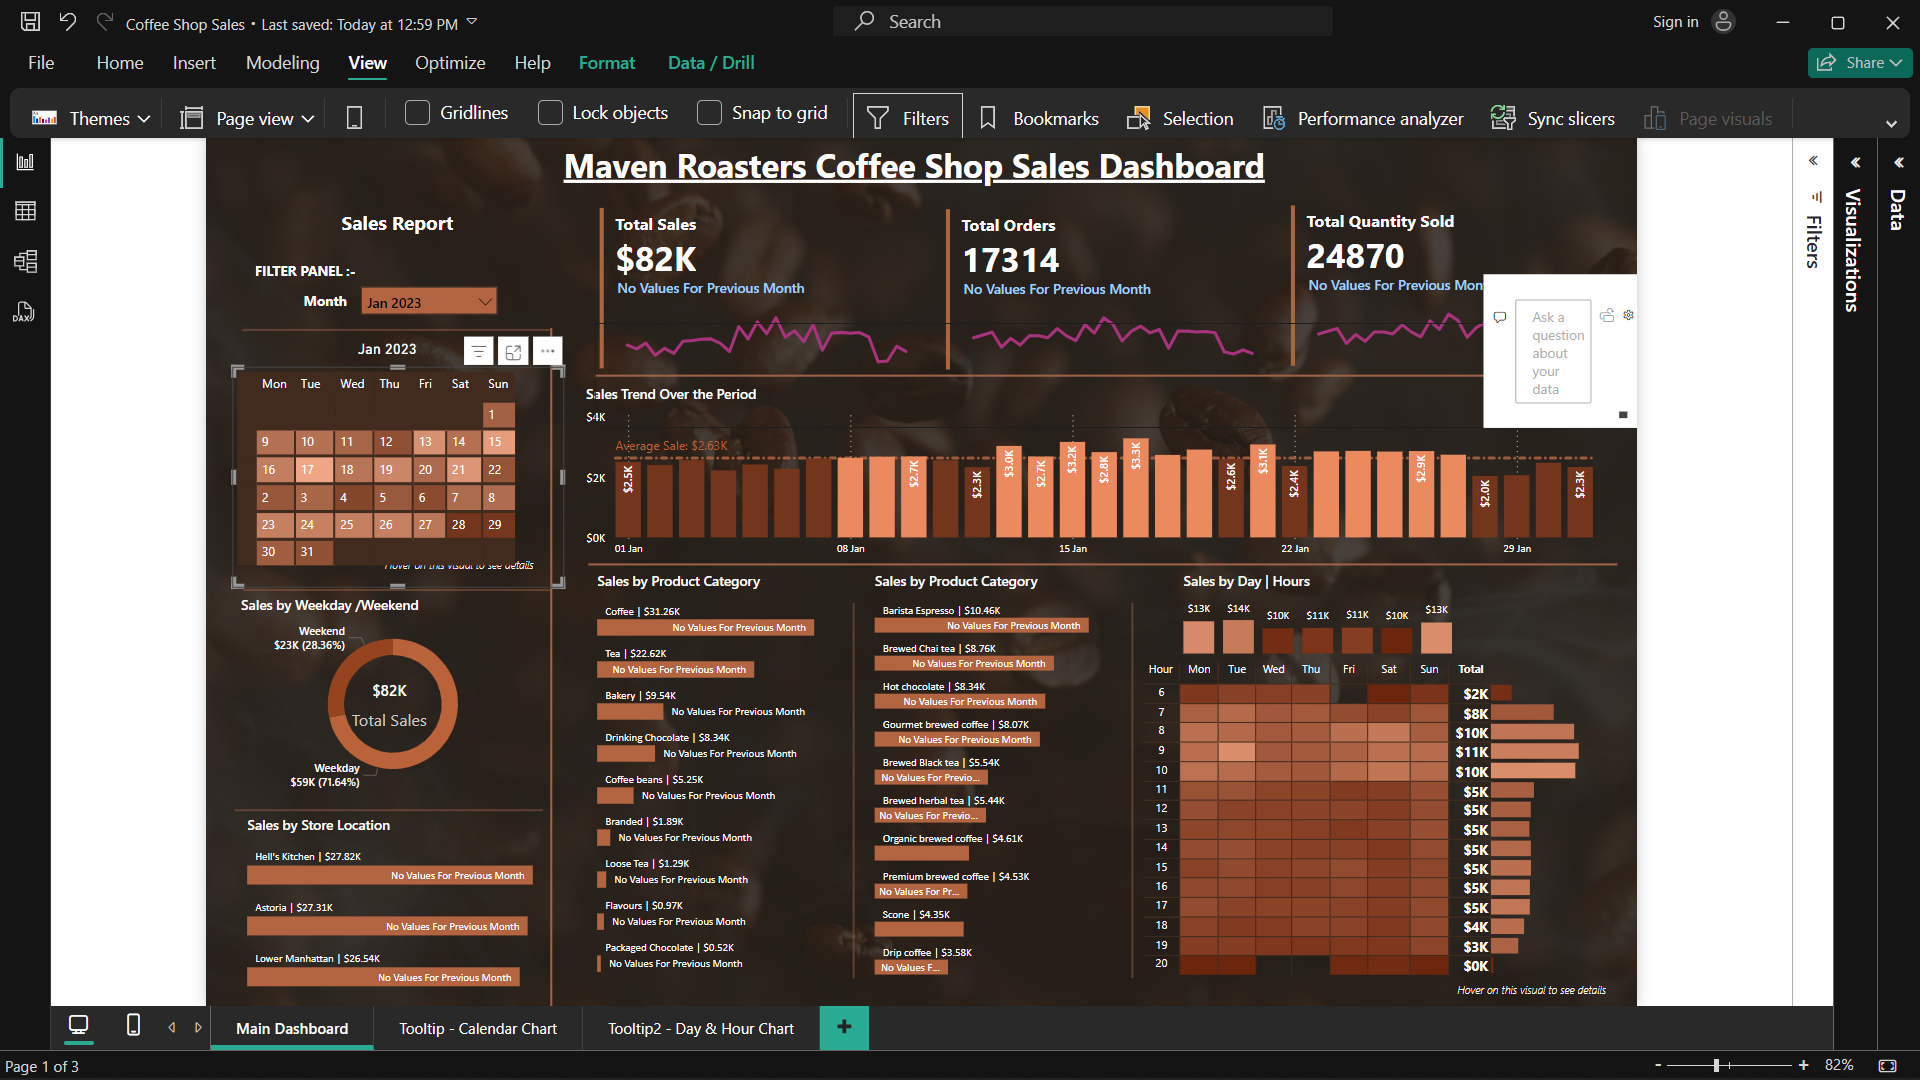

Layout of this report page (visuals, bound fields, positions):
{"tool":"powerbi","page":{"name":"Main Dashboard","canvas":[1400,850],"ordinal":0},"visuals":[{"type":"textbox","box":[345.5,0,705.7,61.6],"z":0},{"type":"slicer","fields":{"Values":["Date Table.Month Year"]},"box":[146.2,141.2,143.8,36.2],"z":1000},{"type":"group","id":"g1","title":"Group 1","box":[380.7,63.1,319.4,168],"z":2000},{"type":"group","id":"g2","title":"Group 1","box":[719,64.4,318.7,168],"z":3000},{"type":"group","id":"g3","title":"Group 1","box":[1056.6,61.5,318.2,166.6],"z":4000},{"type":"cardVisual","fields":{"Data":["Transactions.Total Quantity Sold"]},"box":[1056.6,61.5,318.7,168],"z":4000,"group":"g3"},{"type":"cardVisual","fields":{"Data":["Transactions.Total Sales"]},"box":[380.7,63.1,318.7,168],"z":4000,"group":"g1"},{"type":"cardVisual","fields":{"Data":["Transactions.Total Orders"]},"box":[719,64.4,318.7,168],"z":4000,"group":"g2"},{"type":"pivotTable","fields":{"Rows":["Date Table.Week Number"],"Columns":["Date Table.Day Name"],"Values":["Min(Date Table.Day Number)"]},"box":[25.6,224.4,324.4,215.6],"z":5000},{"type":"lineChart","fields":{"Category":["Date Table.Date.Variation.Date Hierarchy.Year","Date Table.Date.Variation.Date Hierarchy.Quarter","Date Table.Date.Variation.Date Hierarchy.Month","Date Table.Date.Variation.Date Hierarchy.Day"],"Y":["Transactions.Total Orders"]},"box":[1073.4,135,302.7,89.5],"z":6000,"group":"g3"},{"type":"lineChart","fields":{"Category":["Date Table.Date.Variation.Date Hierarchy.Year","Date Table.Date.Variation.Date Hierarchy.Quarter","Date Table.Date.Variation.Date Hierarchy.Month","Date Table.Date.Variation.Date Hierarchy.Day"],"Y":["Transactions.Total Sales"]},"box":[397.5,136.6,302.7,89.5],"z":6000,"group":"g1"},{"type":"lineChart","fields":{"Category":["Date Table.Date.Variation.Date Hierarchy.Year","Date Table.Date.Variation.Date Hierarchy.Quarter","Date Table.Date.Variation.Date Hierarchy.Month","Date Table.Date.Variation.Date Hierarchy.Day"],"Y":["Transactions.Total Orders"]},"box":[735.8,137.9,302.7,89.5],"z":6000,"group":"g2"},{"type":"card","fields":{"Values":["Min(Date Table.Month Year)"]},"box":[132.6,186.1,91.1,42.8],"z":6000},{"type":"card","fields":{"Values":["Transactions.Foot Note"]},"box":[146,401.7,204.9,38.8],"z":7000},{"type":"shape","box":[627.5,455,12.5,367.5],"z":8000},{"type":"shape","box":[35.6,182.2,301.1,11.1],"z":9000},{"type":"donutChart","title":"Sales by Weekday /Weekend","fields":{"Category":["Date Table.Weekday /Weekend"],"Y":["Transactions.Total Sales"]},"box":[28.8,447.5,307.5,195],"z":10000},{"type":"card","fields":{"Values":["Transactions.Total Sales"]},"box":[113.3,525,131.7,58.3],"z":11000},{"type":"shape","box":[28.3,651.7,301.7,11.7],"z":12000},{"type":"clusteredBarChart","title":"Sales by Store Location","fields":{"Category":["Transactions.store_location"],"Y":["Transactions.Place Holder","Transactions.Total Sales"]},"box":[35,662.5,313.8,175],"z":13000},{"type":"columnChart","title":"Sales Trend Over the Period","fields":{"Category":["Transactions.transaction_date"],"Y":["Transactions.Total Sales"]},"box":[366.9,241,997.6,178.1],"z":14000},{"type":"clusteredBarChart","title":"Sales by Product Category","fields":{"Y":["Transactions.Place Holder","Transactions.Total Sales"],"Category":["Transactions.product_category"]},"box":[377.5,425,250,397.5],"z":15000},{"type":"shape","box":[36.2,436.2,301.2,11.2],"z":16000},{"type":"clusteredBarChart","title":"Sales by Product Category","fields":{"Y":["Transactions.Place Holder","Transactions.Total Sales"],"Category":["Transactions.product_type"]},"box":[650,425,250,400],"z":17000},{"type":"shape","box":[900,455,12.5,367.5],"z":18000},{"type":"pivotTable","fields":{"Rows":["Transactions.Hour"],"Values":["Transactions.Total Sales"],"Columns":["Date Table.Day Name"]},"box":[912.5,507.5,362.5,317.5],"z":19000},{"type":"barChart","fields":{"Category":["Transactions.Hour"],"Y":["Transactions.Total Sales"]},"box":[1252.5,522.5,132.5,300],"z":20000},{"type":"columnChart","title":"Sales by Day | Hours","fields":{"Y":["Transactions.Total Sales"],"Category":["Date Table.Day Name"]},"box":[951.2,425,273.8,86.2],"z":21000},{"type":"textbox","box":[90,145,66.2,28.8],"z":22000},{"type":"textbox","box":[121.2,65,132.5,37.5],"z":23000},{"type":"textbox","box":[42.5,116.2,157.5,28.8],"z":24000},{"type":"shape","box":[380.3,180.8,994.9,103.1],"z":25000},{"type":"shape","box":[374.9,365.6,1006.9,103.1],"z":26000},{"type":"shape","box":[328.1,186.1,20.1,664.1],"z":26001},{"type":"card","fields":{"Values":["Transactions.Foot Note"]},"box":[1195.7,822.2,204.9,28.1],"z":26002}]}

Visuals, with their boxes on the page's 1400x850 design canvas (x1, y1, x2, y2). These are canvas units, not pixel positions in the 1920x1080 screenshot, which may show the page scaled, cropped or inside an application window:
textbox: bbox(346, 0, 1051, 62)
slicer - Date Table.Month Year: bbox(146, 141, 290, 177)
"Group 1" group: bbox(381, 63, 700, 231)
"Group 1" group: bbox(719, 64, 1038, 232)
"Group 1" group: bbox(1057, 62, 1375, 228)
cardVisual - Transactions.Total Quantity Sold: bbox(1057, 62, 1375, 230)
cardVisual - Transactions.Total Sales: bbox(381, 63, 699, 231)
cardVisual - Transactions.Total Orders: bbox(719, 64, 1038, 232)
pivotTable - Date Table.Week Number x Date Table.Day Name: bbox(26, 224, 350, 440)
lineChart - Date Table.Date.Variation.Date Hierarchy.Year x Date Table.Date.Variation.Date Hierarchy.Quarter: bbox(1073, 135, 1376, 224)
lineChart - Date Table.Date.Variation.Date Hierarchy.Year x Date Table.Date.Variation.Date Hierarchy.Quarter: bbox(398, 137, 700, 226)
lineChart - Date Table.Date.Variation.Date Hierarchy.Year x Date Table.Date.Variation.Date Hierarchy.Quarter: bbox(736, 138, 1038, 227)
card - Min(Date Table.Month Year): bbox(133, 186, 224, 229)
card - Transactions.Foot Note: bbox(146, 402, 351, 440)
shape: bbox(628, 455, 640, 822)
shape: bbox(36, 182, 337, 193)
"Sales by Weekday /Weekend" donutChart: bbox(29, 448, 336, 642)
card - Transactions.Total Sales: bbox(113, 525, 245, 583)
shape: bbox(28, 652, 330, 663)
"Sales by Store Location" clusteredBarChart: bbox(35, 662, 349, 838)
"Sales Trend Over the Period" columnChart: bbox(367, 241, 1364, 419)
"Sales by Product Category" clusteredBarChart: bbox(378, 425, 628, 822)
shape: bbox(36, 436, 337, 447)
"Sales by Product Category" clusteredBarChart: bbox(650, 425, 900, 825)
shape: bbox(900, 455, 912, 822)
pivotTable - Transactions.Hour x Transactions.Total Sales: bbox(912, 508, 1275, 825)
barChart - Transactions.Hour x Transactions.Total Sales: bbox(1252, 522, 1385, 822)
"Sales by Day | Hours" columnChart: bbox(951, 425, 1225, 511)
textbox: bbox(90, 145, 156, 174)
textbox: bbox(121, 65, 254, 102)
textbox: bbox(42, 116, 200, 145)
shape: bbox(380, 181, 1375, 284)
shape: bbox(375, 366, 1382, 469)
shape: bbox(328, 186, 348, 850)
card - Transactions.Foot Note: bbox(1196, 822, 1401, 850)
